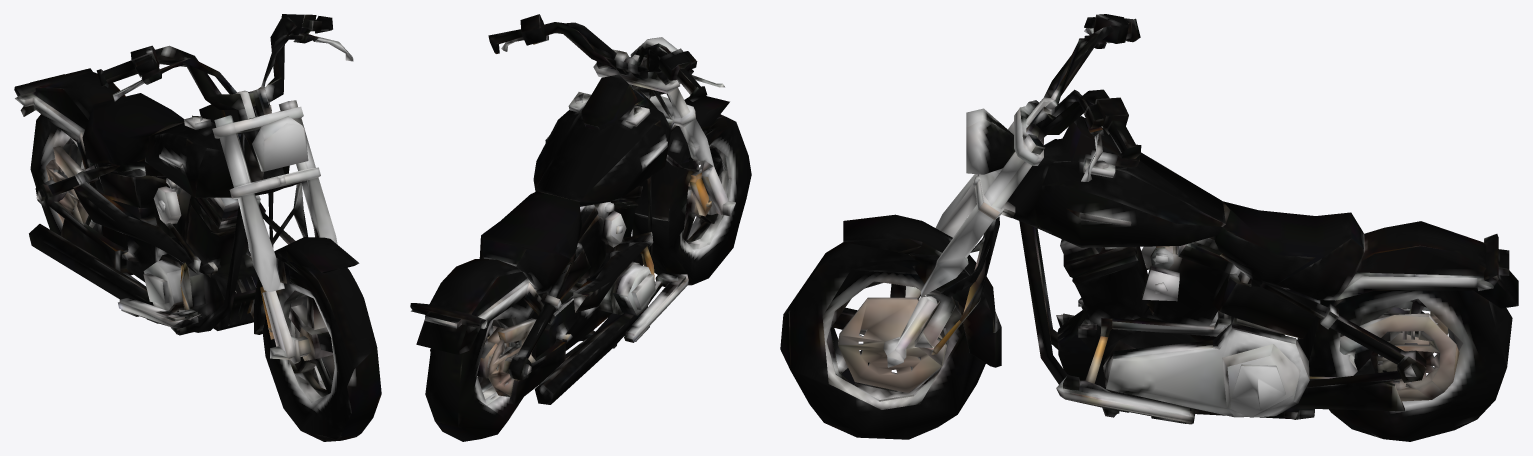
File: harley_lo.glb
3 renders of one model, left to right at view 1: azimuth 30°, elevation 25°; view 2: azimuth 150°, elevation 25°; view 3: azimuth 270°, elevation 25°, orthographic. The views are drawn at different scales.
Size of the model in its own units: 0.4824 by 0.6458 by 1.13.
1 material, 1 textured.
